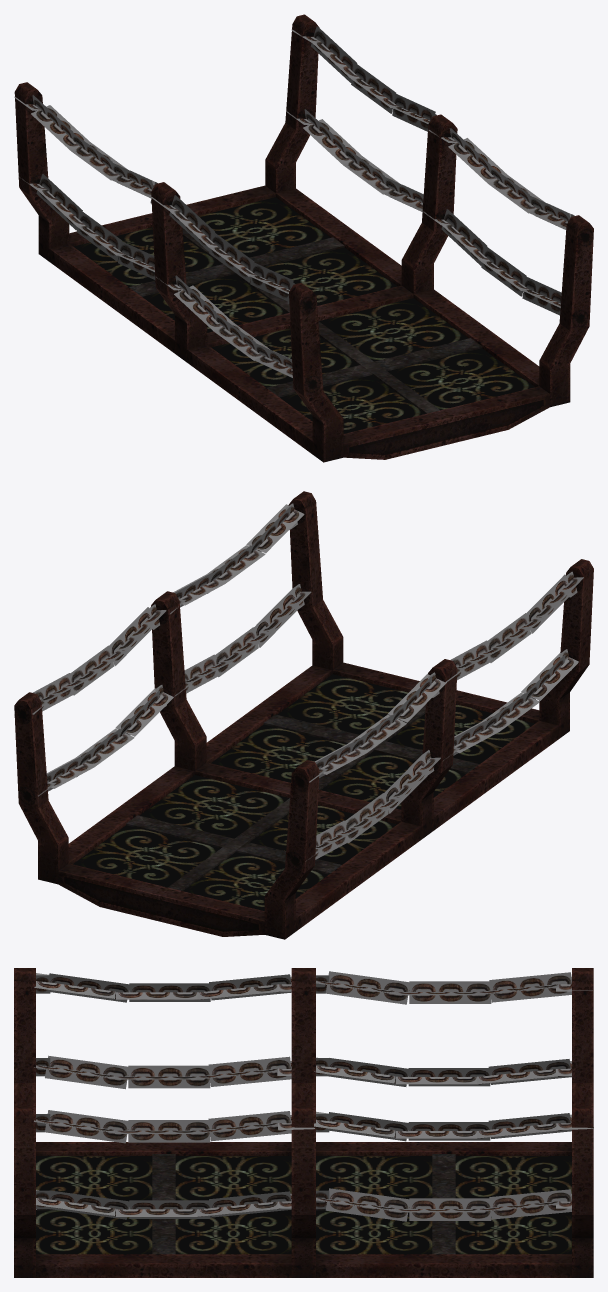
Rendered from barrier_bridge.dae.
3 views of the same model, one above another, from view 1: azimuth 30°, elevation 25°; view 2: azimuth 150°, elevation 25°; view 3: azimuth 270°, elevation 25° (orthographic).
Parts seen in each view (by area): view 1: bridge, bridgegrates, chain22, chain7, chain13, chain4, chain1, chain16, chain10, chain19, chain11, chain20 (+15 smaller); view 2: bridge, bridgegrates, chain6, chain15, chain9, chain24, chain12, chain18, polySurface165, chain3, chain21, chain11 (+15 smaller); view 3: bridge, bridgegrates, polySurface165, chain23, chain15, chain6, chain8, chain24, chain9, chain14, chain5, chain7 (+15 smaller).
Boxes of the visible parts, x1,y1,x2,y2 form: bridge: [14, 14, 593, 462]; bridgegrates: [73, 197, 534, 433]; chain22: [174, 275, 232, 331]; chain7: [448, 128, 507, 183]; chain13: [31, 95, 89, 150]; chain4: [303, 109, 361, 164]; chain1: [311, 26, 359, 82]; chain16: [36, 174, 85, 230]; chain10: [441, 209, 489, 265]; chain19: [169, 195, 217, 251]; chain11: [481, 247, 528, 296]; chain20: [209, 233, 256, 282]; bridge: [14, 491, 593, 939]; bridgegrates: [73, 674, 534, 910]; chain6: [115, 688, 174, 737]; chain15: [388, 673, 446, 723]; chain9: [246, 504, 304, 553]; chain24: [521, 653, 578, 701]; chain12: [254, 589, 311, 647]; chain18: [384, 754, 440, 813]; polySurface165: [32, 503, 577, 861]; chain3: [109, 607, 166, 665]; chain21: [526, 574, 583, 633]; chain11: [215, 627, 271, 677]; bridge: [14, 968, 593, 1277]; bridgegrates: [36, 1156, 571, 1254]; polySurface165: [36, 975, 593, 1208]; chain23: [115, 1065, 210, 1088]; chain15: [316, 971, 409, 1004]; chain6: [316, 1188, 409, 1221]; chain8: [115, 1120, 210, 1142]; chain24: [34, 1055, 128, 1089]; chain9: [34, 1110, 128, 1143]; chain14: [396, 981, 491, 1003]; chain5: [396, 1198, 491, 1220]; chain7: [196, 1111, 291, 1141].
Bounding box in the file's own units: 2.42 × 1.45 × 4.
